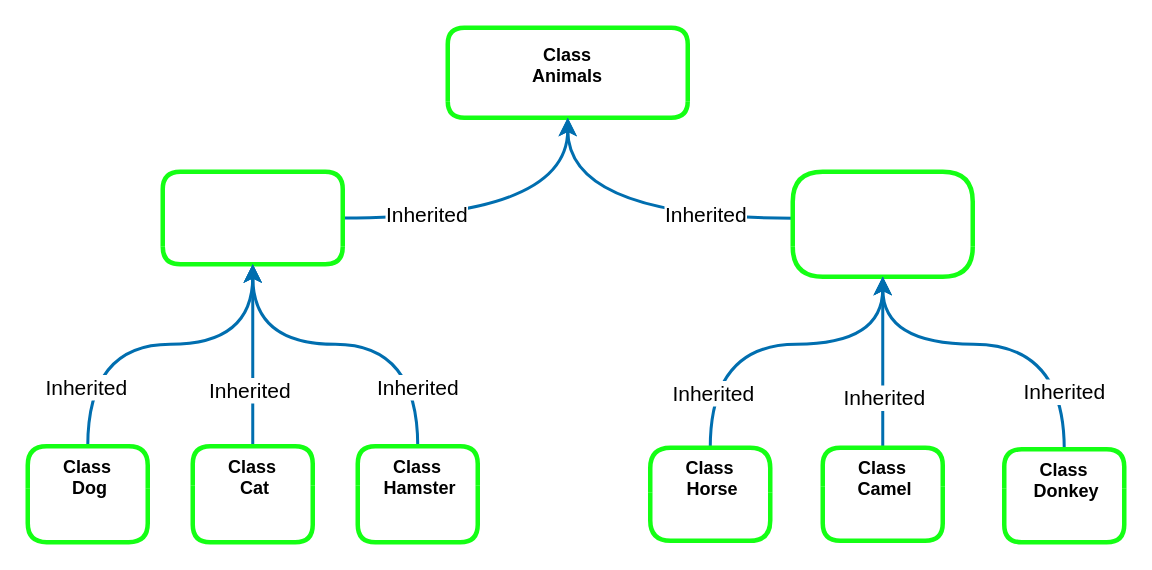
The diagram is 1152 pixels wide and 570 high, and some of its shapes have lost their labels. Here are the shapes that lost their labels. From the top down, the centre of each, then its label:
At (x=252, y=217): "Class PetsAnimals".
At (x=882, y=223): "Class PackAnimals".
